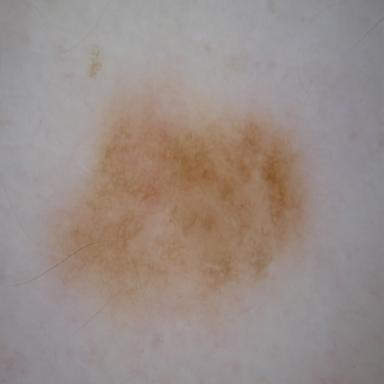nevus: (49, 90, 306, 313)
